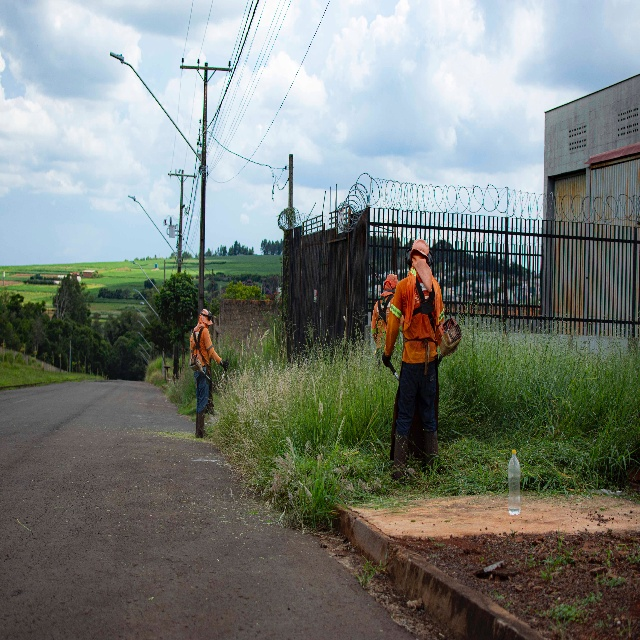Guantes: (381, 351, 391, 368), (222, 359, 229, 372)
